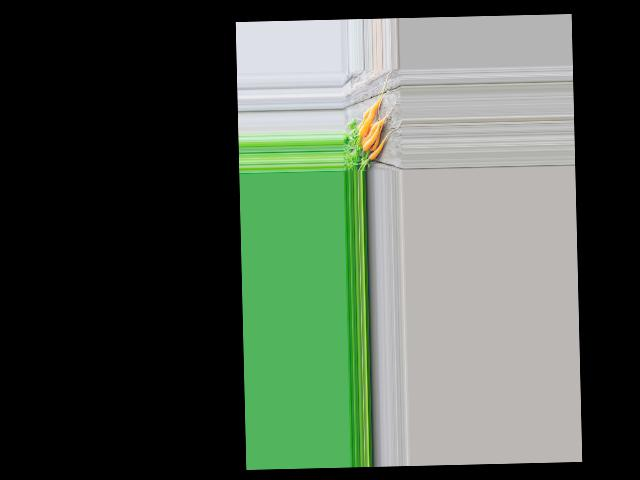carrot: (356, 101, 380, 141)
